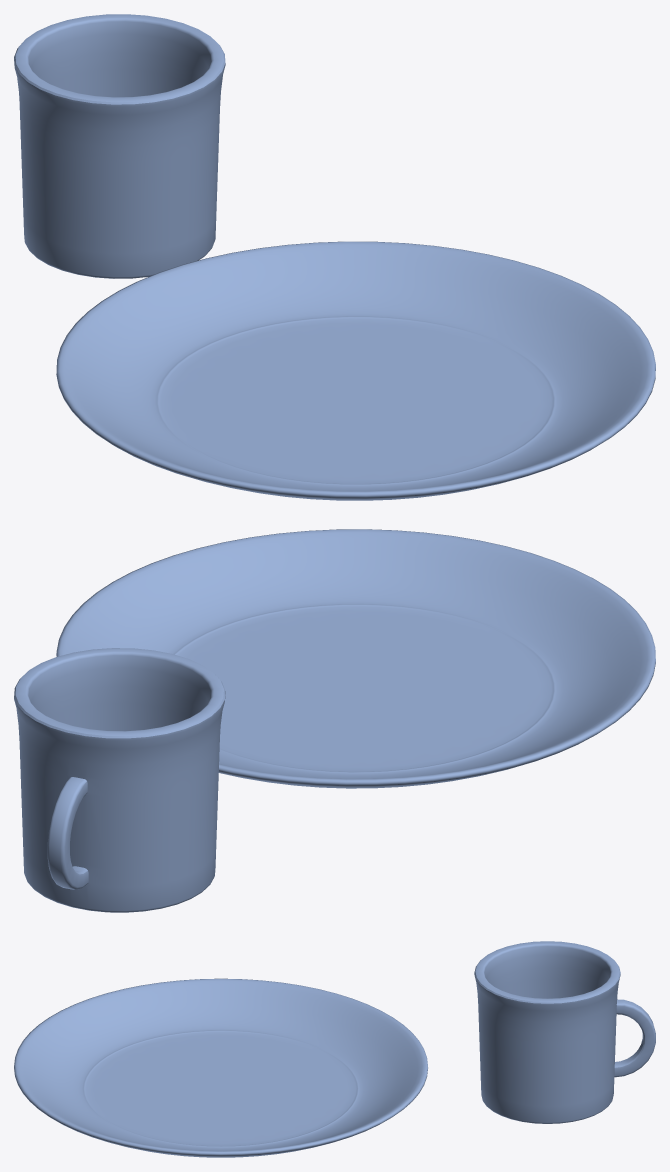
Rendered from DesyunoVacio_osc.fbx.
3 renders of one model, top to bottom at view 1: azimuth 30°, elevation 25°; view 2: azimuth 150°, elevation 25°; view 3: azimuth 270°, elevation 25°, orthographic. The views are drawn at different scales.
Parts seen in each view (by area): view 1: Plato, Taza; view 2: Plato, Taza; view 3: Plato, Taza.
Boxes of the visible parts, x1=… form: Plato: x1=56, y1=241, x2=655, y2=500; Taza: x1=14, y1=14, x2=225, y2=278; Plato: x1=56, y1=529, x2=655, y2=788; Taza: x1=14, y1=648, x2=225, y2=912; Plato: x1=14, y1=978, x2=427, y2=1157; Taza: x1=474, y1=941, x2=655, y2=1123.
Size of the model in its own units: 597 by 202 by 926.
